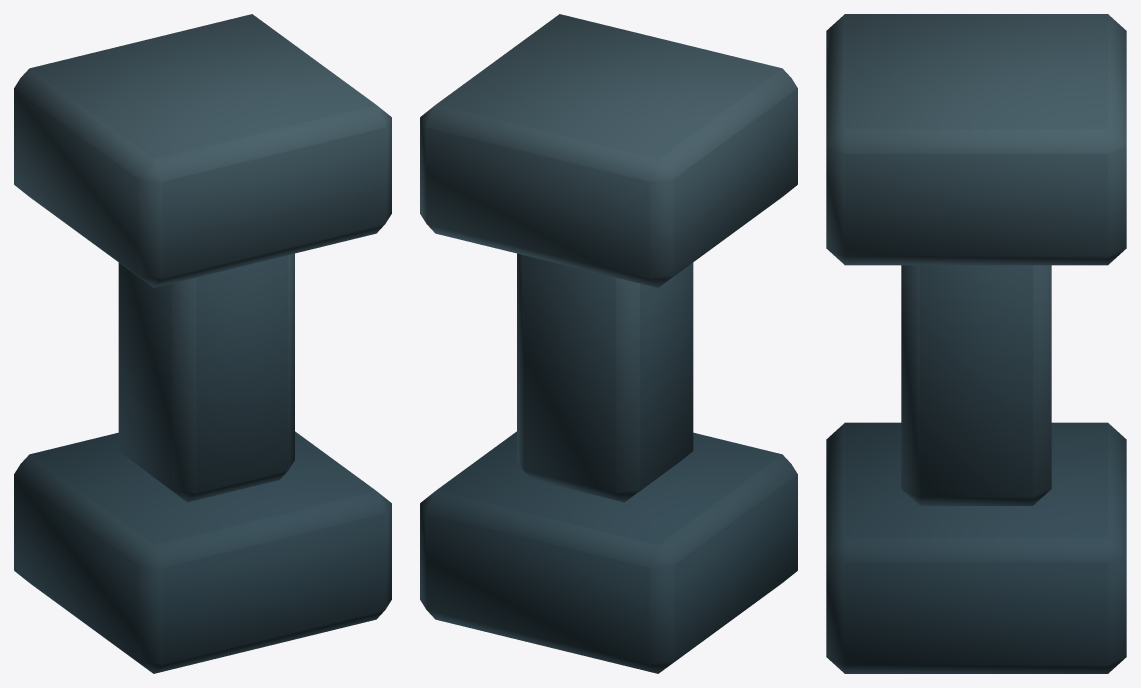
The model's file is fence_01_half_hue_3.fbx.
3 renders of one model, left to right at view 1: azimuth 30°, elevation 25°; view 2: azimuth 150°, elevation 25°; view 3: azimuth 270°, elevation 25°, orthographic. The views are drawn at different scales.
Parts seen in each view (by area): view 1: fence_01_half_hue_3; view 2: fence_01_half_hue_3; view 3: fence_01_half_hue_3.
Part boxes in pixels (box(x1,y1,x2,y2)): fence_01_half_hue_3: box(14, 14, 391, 673); fence_01_half_hue_3: box(420, 14, 797, 673); fence_01_half_hue_3: box(826, 14, 1126, 673).
Bounding box in the file's own units: 51.56 × 100 × 50.
